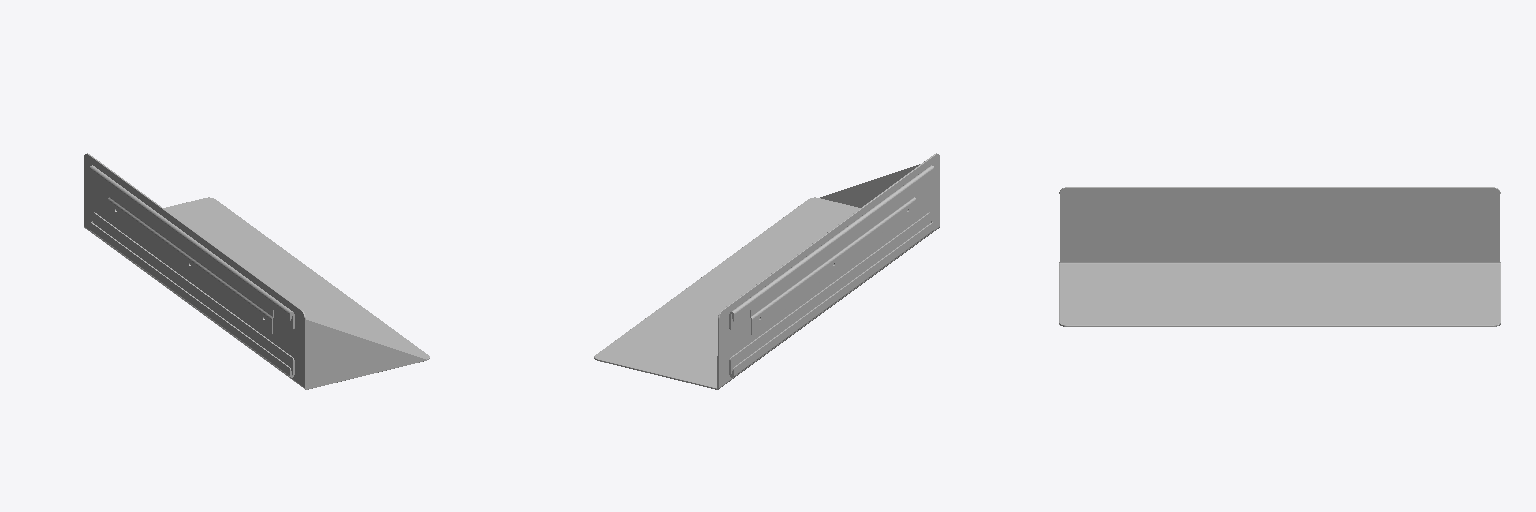
File: shelf.obj
3 renders of one model, left to right at view 1: azimuth 30°, elevation 25°; view 2: azimuth 150°, elevation 25°; view 3: azimuth 270°, elevation 25°, orthographic.
Visible parts, largest first — view 1: Mesh4 Slim_Shelf1 skp7030_1 Model, Mesh2 Shelf_Clip1 skp7030_1 Model, Mesh3 Slim_Wall_1 skp7030_1 Model, Mesh1 Shelf_Cli0_1 skp7030_1 Model; view 2: Mesh4 Slim_Shelf1 skp7030_1 Model, Mesh2 Shelf_Clip1 skp7030_1 Model, Mesh3 Slim_Wall_1 skp7030_1 Model, Mesh1 Shelf_Cli0_1 skp7030_1 Model; view 3: Mesh4 Slim_Shelf1 skp7030_1 Model.
Boxes of the visible parts, x1=… form: Mesh4 Slim_Shelf1 skp7030_1 Model: x1=84, y1=153, x2=429, y2=389; Mesh2 Shelf_Clip1 skp7030_1 Model: x1=90, y1=212, x2=294, y2=377; Mesh3 Slim_Wall_1 skp7030_1 Model: x1=108, y1=190, x2=273, y2=334; Mesh1 Shelf_Cli0_1 skp7030_1 Model: x1=90, y1=165, x2=294, y2=329; Mesh4 Slim_Shelf1 skp7030_1 Model: x1=594, y1=153, x2=939, y2=389; Mesh2 Shelf_Clip1 skp7030_1 Model: x1=729, y1=212, x2=933, y2=377; Mesh3 Slim_Wall_1 skp7030_1 Model: x1=750, y1=190, x2=915, y2=334; Mesh1 Shelf_Cli0_1 skp7030_1 Model: x1=729, y1=165, x2=933, y2=329; Mesh4 Slim_Shelf1 skp7030_1 Model: x1=1059, y1=187, x2=1500, y2=326.
Size of the model in its own units: 210 by 118 by 606.